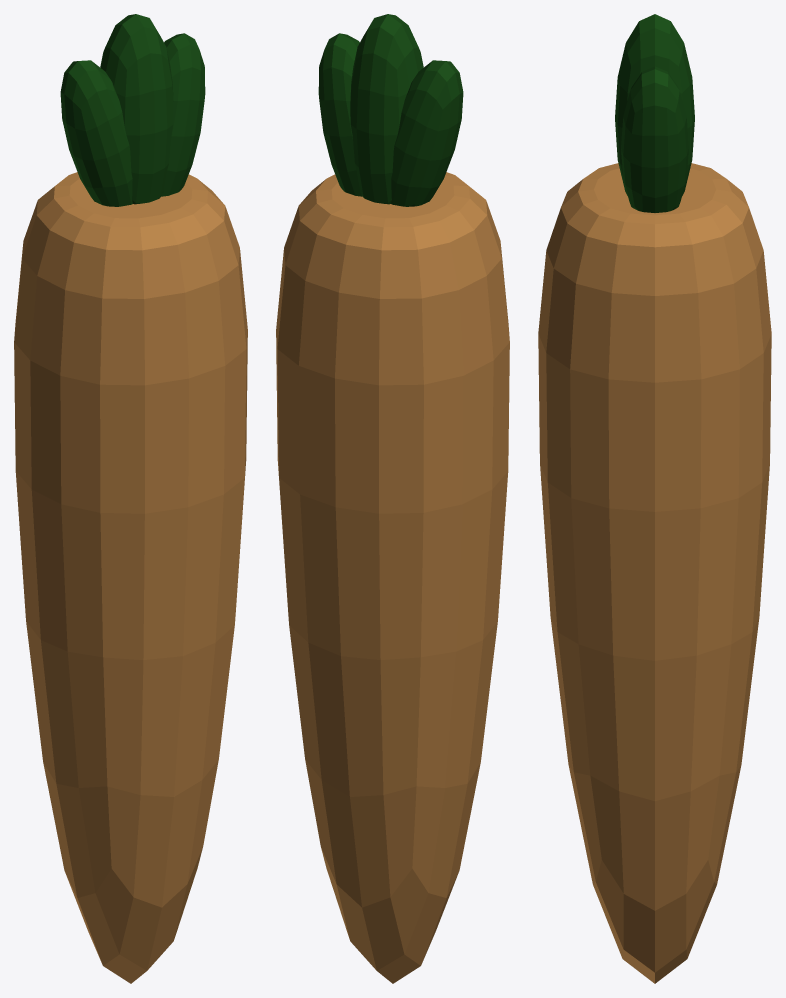
Rendered from Item_Carrot.fbx.
3 views of the same model, side by side, from view 1: azimuth 30°, elevation 25°; view 2: azimuth 150°, elevation 25°; view 3: azimuth 270°, elevation 25° (orthographic).
Parts seen in each view (by area): view 1: Cube; view 2: Cube; view 3: Cube.
Boxes of the visible parts, <box> form: Cube: <box>14,14,247,983</box>; Cube: <box>276,14,509,983</box>; Cube: <box>538,14,771,983</box>.
Size of the model in its own units: 122 by 563 by 122.
